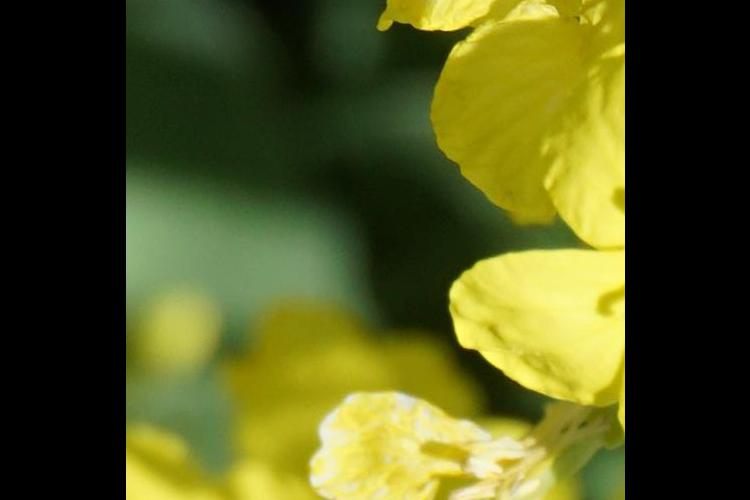yellow: (386, 1, 625, 247), (284, 406, 596, 500)
